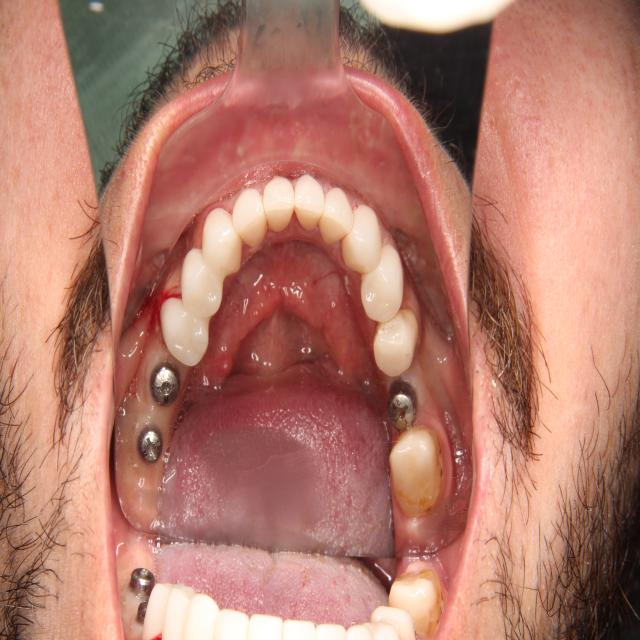tooth: (384, 425, 450, 523), (151, 282, 214, 375), (355, 230, 405, 328), (176, 231, 226, 325), (369, 308, 424, 385), (342, 188, 383, 285), (199, 203, 248, 281), (319, 170, 357, 262), (229, 183, 272, 252), (259, 164, 299, 237), (292, 160, 326, 243)
